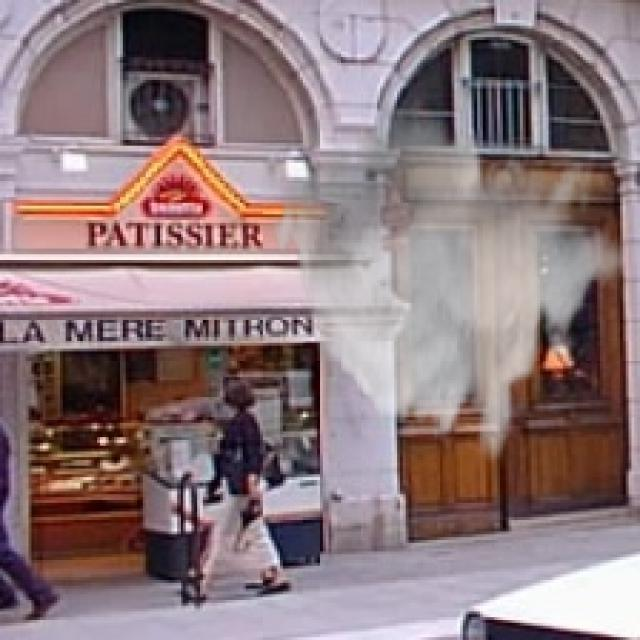Smoke: (268, 88, 628, 463)
